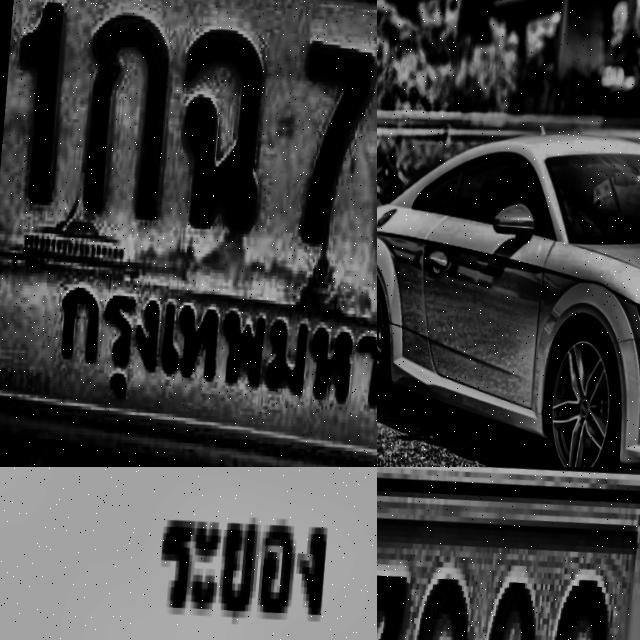license-plate: (0, 0, 377, 467), (0, 467, 377, 640), (377, 467, 640, 640)
